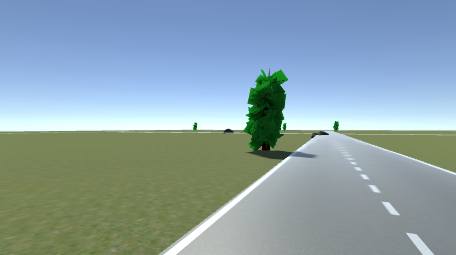rock: (310, 131, 329, 136), (223, 129, 233, 133)
tree: (245, 67, 288, 152), (332, 121, 340, 133)
